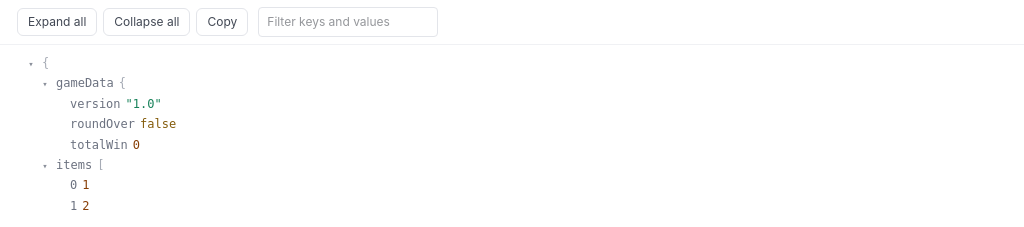
Test: JsonTree › collapses and expands everything from the bar
The width and height of the screenshot is (1024, 227).
Click the button "Collapse all" at (147, 22), box [103,8,190,36]
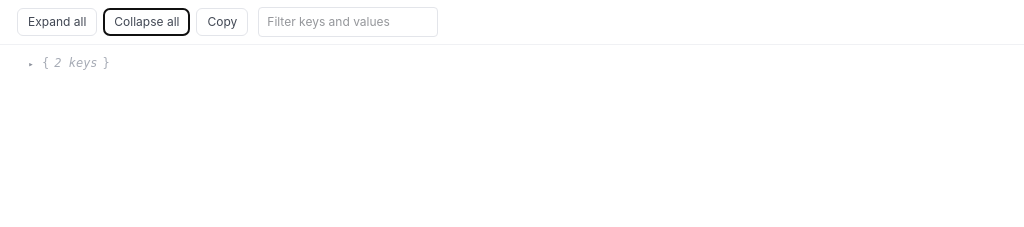
Expected: the text "version" is gone
Expected: the text "gameData" is gone
Click the button "Expand all" at (57, 22), box [17,8,97,36]
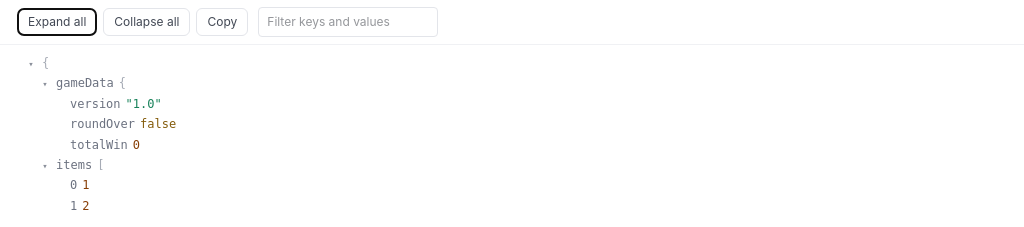
Expected: the text "version" is shown, [70,94,121,114]
